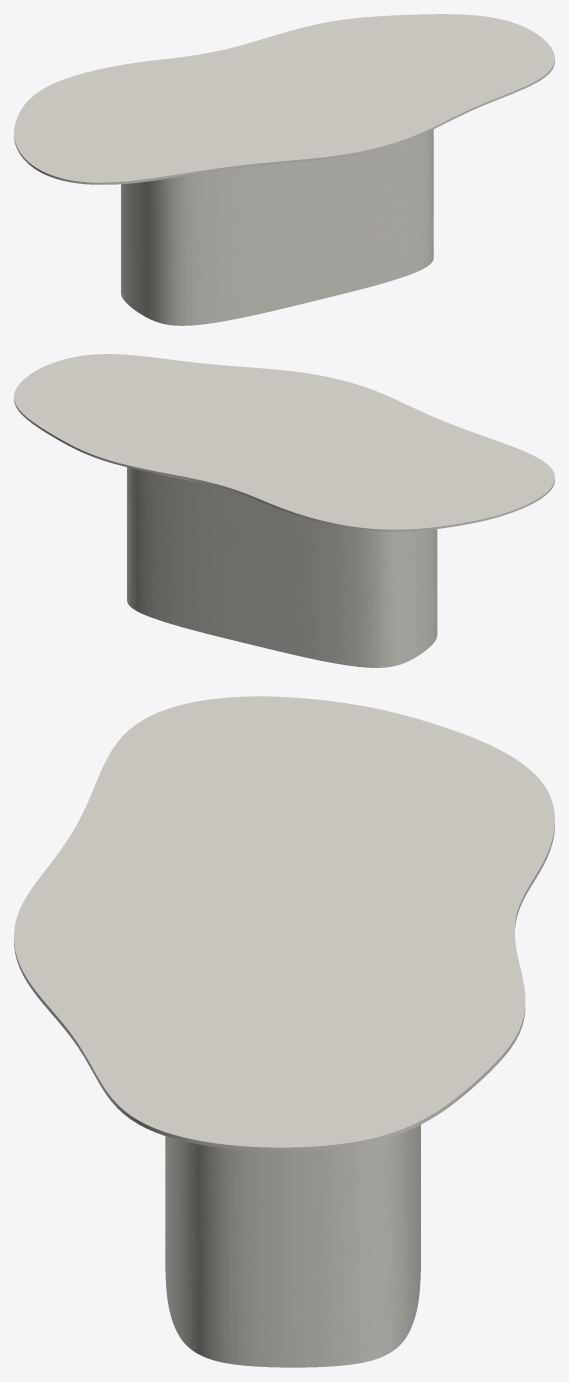
The model's file is pale_toplast_facet_fixed.glb.
3 views of the same model, one above another, from view 1: azimuth 30°, elevation 25°; view 2: azimuth 150°, elevation 25°; view 3: azimuth 270°, elevation 25° (orthographic). The views are drawn at different scales.
Parts seen in each view (by area): view 1: facet_toplast, fixed; view 2: facet_toplast, fixed; view 3: facet_toplast, fixed.
Boxes of the visible parts, x1,y1,x2,y2 form: facet_toplast: (14,14,554,184); fixed: (121,129,433,325); facet_toplast: (14,354,554,531); fixed: (127,467,437,667); facet_toplast: (14,696,554,1151); fixed: (165,1125,420,1367).
Size of the model in its own units: 7.5 by 2.5 by 3.8.
1 material, 1 textured.
